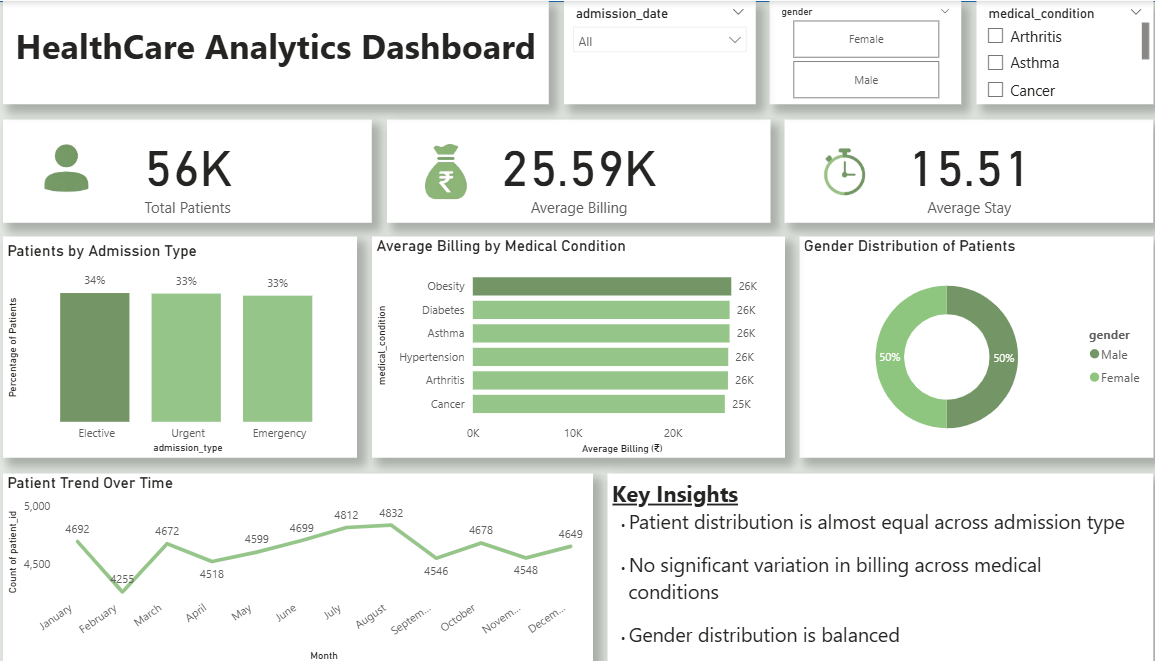

This screenshot's page, from the dashboard's own definition file:
{"tool":"powerbi","page":{"name":"Page 1","canvas":[1280,720],"ordinal":0},"visuals":[{"type":"shape","box":[0,0,1280,720],"z":0},{"type":"card","fields":{"Values":["public healthcare_data.Total Patients"]},"box":[16,128,400,112],"z":1000},{"type":"card","fields":{"Values":["public healthcare_data.Average Billing"]},"box":[432,128,416,112],"z":2000},{"type":"card","fields":{"Values":["public healthcare_data.Average Stay"]},"box":[864,128,400,112],"z":3000},{"type":"donutChart","title":"Gender Distribution of Patients","fields":{"Category":["public healthcare_data.gender"],"Y":["CountNonNull(public healthcare_data.name)"]},"box":[880,256,384,240],"z":4000},{"type":"clusteredColumnChart","title":"Patients by Admission Type","fields":{"Category":["public healthcare_data.admission_type"],"Y":["public healthcare_data.Patient %"]},"box":[16,256,384,240],"z":5000},{"type":"barChart","title":"Average Billing by Medical Condition","fields":{"Category":["public healthcare_data.medical_condition"],"Y":["Avg(public healthcare_data.billing_amount)"]},"box":[416,256,448,240],"z":6000},{"type":"textbox","box":[16,0,592,112],"z":7000},{"type":"lineChart","title":"Patient Trend Over Time","fields":{"Category":["public healthcare_data.admission_date.Variation.Date Hierarchy.Month"],"Y":["CountNonNull(public healthcare_data.patient_id)"]},"box":[16,512,640,208],"z":8000},{"type":"slicer","title":"Gender","fields":{"Values":["public healthcare_data.gender"]},"box":[848,0,208,112],"z":9000},{"type":"slicer","fields":{"Values":["public healthcare_data.medical_condition"]},"box":[1072,0,192,112],"z":10000},{"type":"slicer","fields":{"Values":["public healthcare_data.admission_date"]},"box":[624,0,208,112],"z":11000},{"type":"textbox","box":[672,512,592,208],"z":12000},{"type":"image","box":[32,128,112,96],"z":13000},{"type":"image","box":[448,128,96,112],"z":14000},{"type":"image","box":[880,144,96,80],"z":15000}]}

Visuals, with their boxes in screenshot pixels (x1, y1, x2, y2), scaled from the page's 1280x720 canvas onto the 1155x661 screenshot:
shape: x1=0, y1=0, x2=1154, y2=660
card - public healthcare_data.Total Patients: x1=14, y1=118, x2=375, y2=220
card - public healthcare_data.Average Billing: x1=390, y1=118, x2=765, y2=220
card - public healthcare_data.Average Stay: x1=780, y1=118, x2=1141, y2=220
"Gender Distribution of Patients" donutChart: x1=794, y1=235, x2=1141, y2=455
"Patients by Admission Type" clusteredColumnChart: x1=14, y1=235, x2=361, y2=455
"Average Billing by Medical Condition" barChart: x1=375, y1=235, x2=780, y2=455
textbox: x1=14, y1=0, x2=549, y2=103
"Patient Trend Over Time" lineChart: x1=14, y1=470, x2=592, y2=660
"Gender" slicer: x1=765, y1=0, x2=953, y2=103
slicer - public healthcare_data.medical_condition: x1=967, y1=0, x2=1141, y2=103
slicer - public healthcare_data.admission_date: x1=563, y1=0, x2=751, y2=103
textbox: x1=606, y1=470, x2=1141, y2=660
image: x1=29, y1=118, x2=130, y2=206
image: x1=404, y1=118, x2=491, y2=220
image: x1=794, y1=132, x2=881, y2=206
